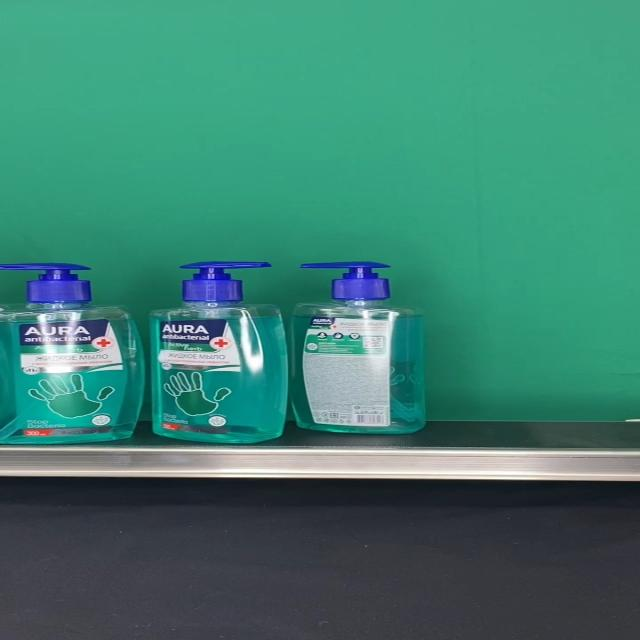Bottle: (0, 264, 146, 444), (150, 260, 288, 443), (288, 261, 425, 433)
Cap: (178, 260, 274, 301), (299, 261, 391, 301), (0, 263, 92, 301)
